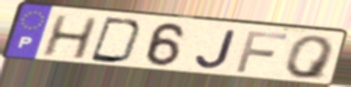6: (143, 21, 189, 69)
D: (87, 15, 146, 66)
F: (233, 29, 291, 74)
H: (39, 14, 100, 62)
J: (193, 28, 240, 71)
Q: (284, 34, 337, 81)
